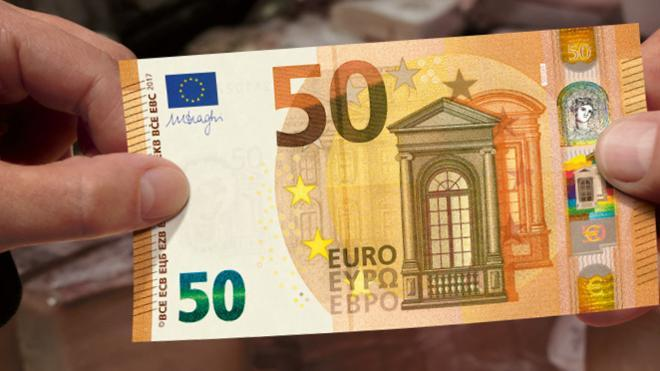euro_banknote: (123, 42, 651, 330)
